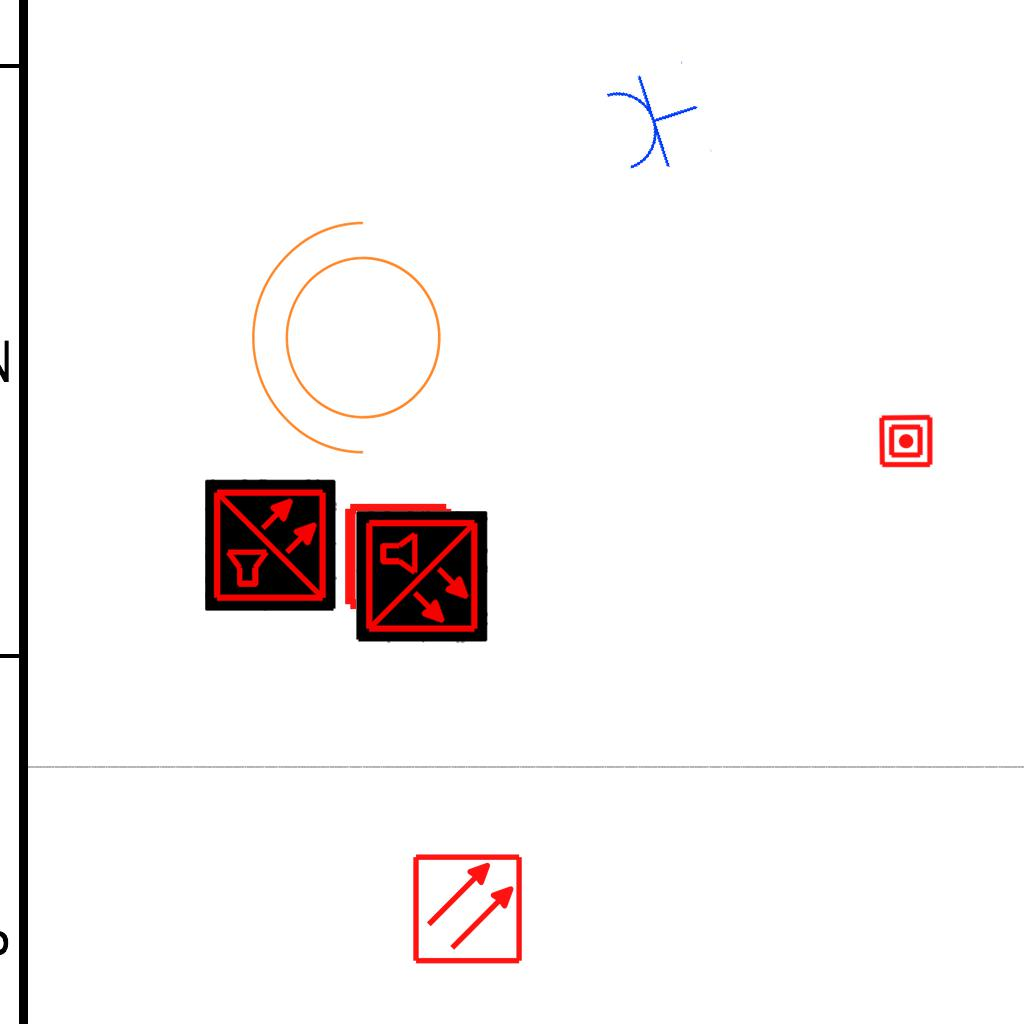NAM-Nichtautomatischer_Melder: (342, 500, 455, 613), (878, 413, 934, 469)
OKW_Multisensormelder_(Kombination_optischer_Rauch-Kahlenmonoxid_Waerme-Melder): (205, 479, 337, 611), (356, 511, 488, 643)
RMO_Rauchmelder_optischer: (411, 852, 524, 965)
Scheinwerfer_fuer_Alarmbeleuchtung: (241, 212, 466, 476)
Schukosteckdose_einfach: (599, 58, 713, 181)
